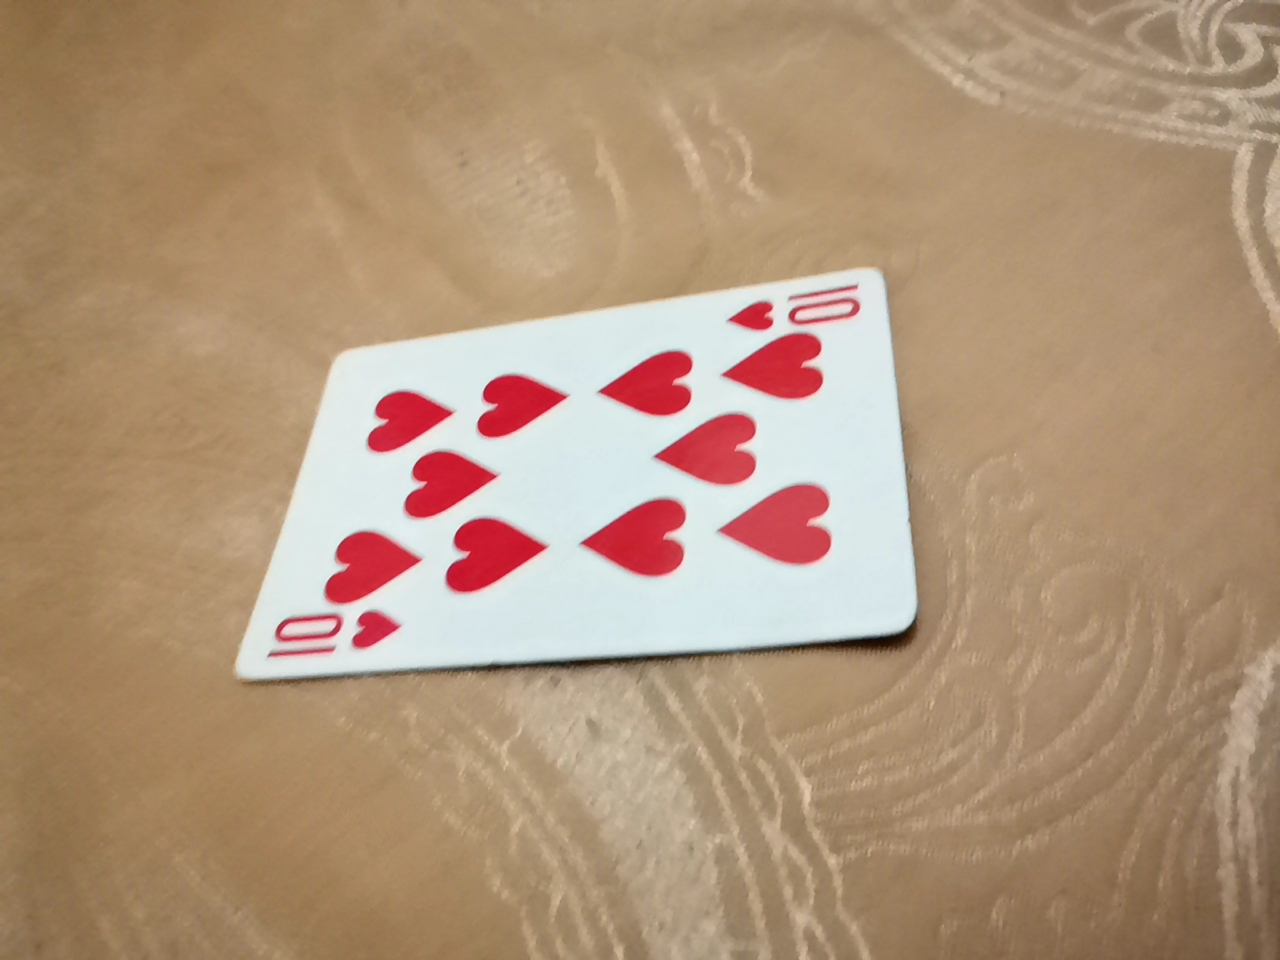hx 10: (251, 266, 929, 693)
